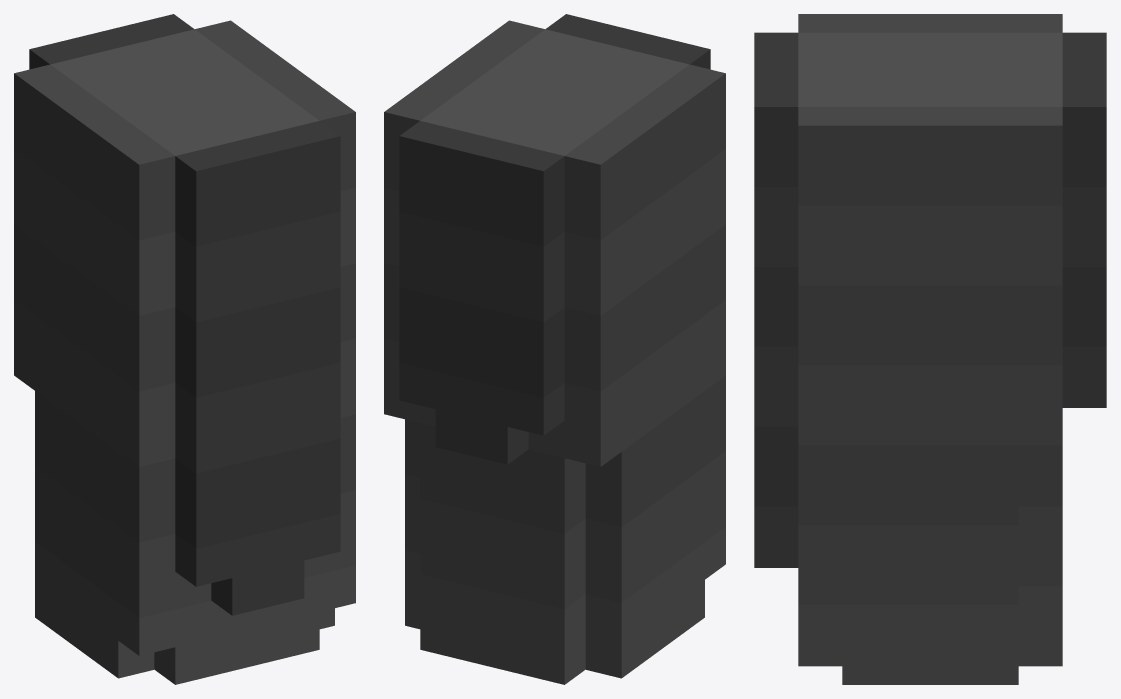
The model's file is Movement Monster-4-Pata.obj.
3 views of the same model, side by side, from view 1: azimuth 30°, elevation 25°; view 2: azimuth 150°, elevation 25°; view 3: azimuth 270°, elevation 25° (orthographic). The views are drawn at different scales.
Visible parts, largest first — view 1: Pata; view 2: Pata; view 3: Pata.
Part boxes in pixels (x1=…): Pata: x1=14, y1=14, x2=355, y2=684; Pata: x1=384, y1=14, x2=725, y2=684; Pata: x1=754, y1=14, x2=1106, y2=684.
Size of the model in its own units: 0.6 by 1.4 by 0.8.
1 material, 1 textured.
